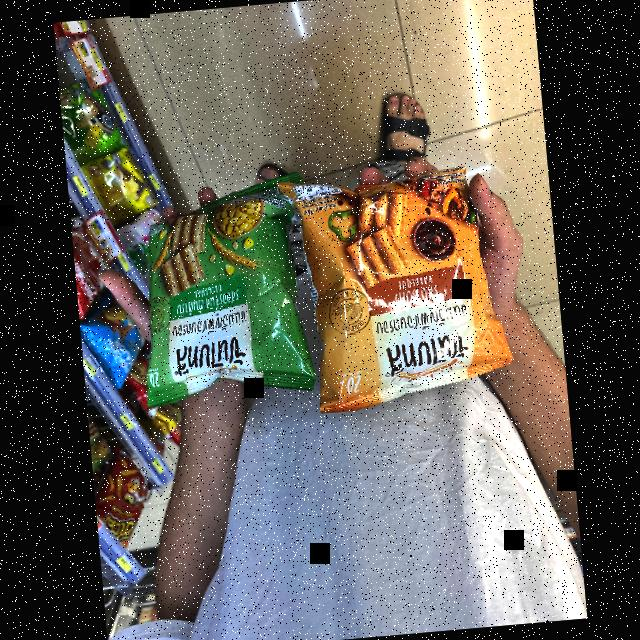snack_bag: (288, 164, 528, 420), (107, 152, 323, 426)
